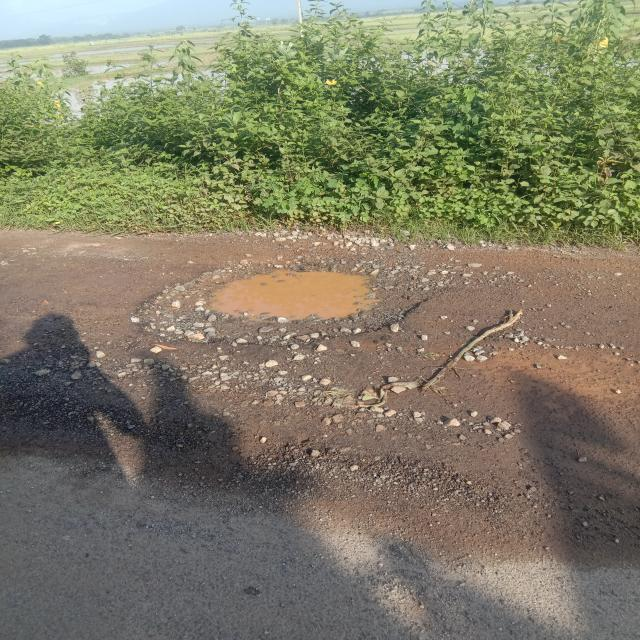potholes: (197, 258, 396, 328)
